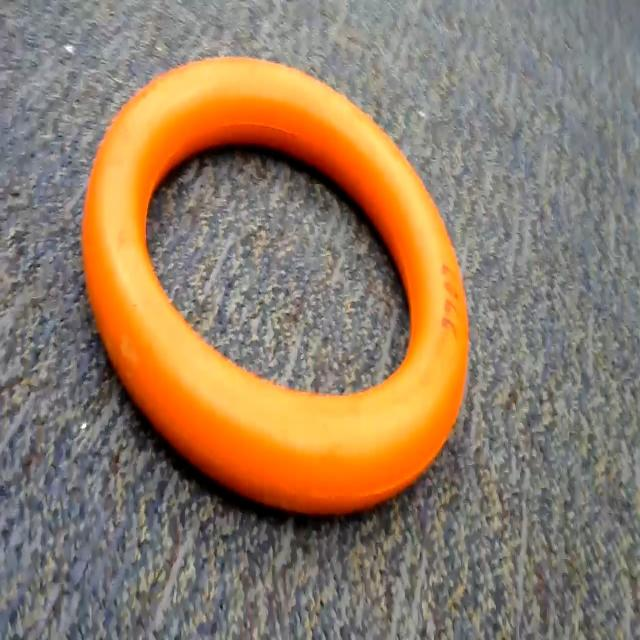note: (69, 49, 490, 521)
